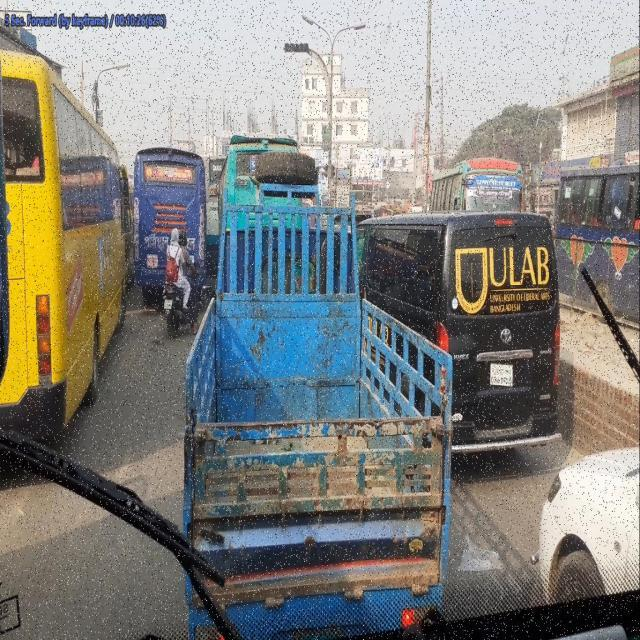numberplate: (489, 361, 516, 387)
